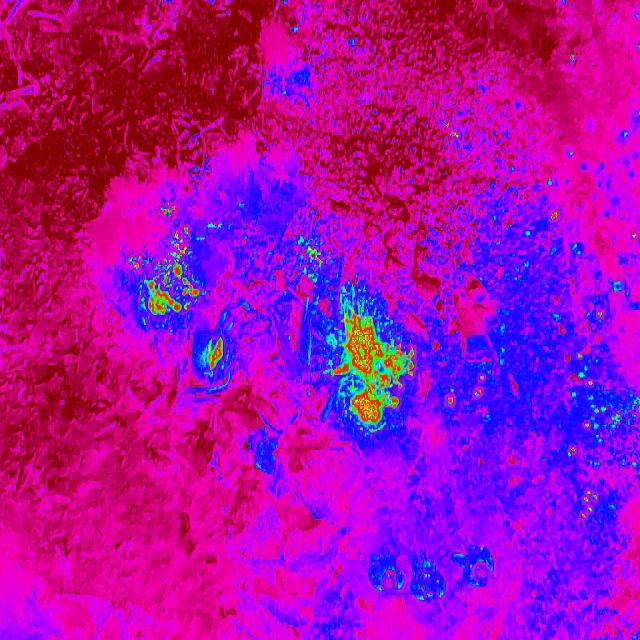fire: (554, 271, 640, 531), (332, 302, 416, 426), (128, 226, 202, 318), (441, 373, 489, 412), (202, 337, 230, 375), (298, 242, 324, 272), (161, 203, 177, 219), (548, 206, 560, 222), (567, 52, 578, 64)
